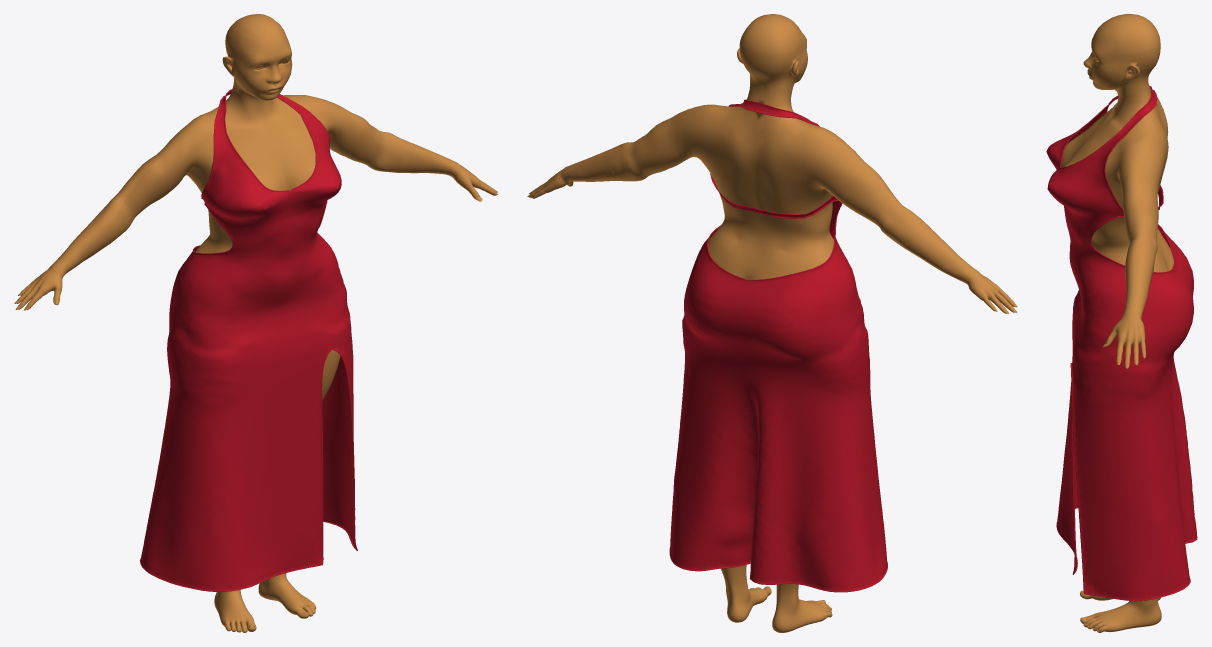
File: dress3.glb
3 views of the same model, side by side, from view 1: azimuth 30°, elevation 25°; view 2: azimuth 150°, elevation 25°; view 3: azimuth 270°, elevation 25° (orthographic).
Visible parts, largest first — view 1: EveningDress, Body; view 2: EveningDress, Body; view 3: EveningDress, Body.
Boxes of the visible parts, bbox=[...] form: EveningDress: bbox=[140, 89, 357, 591]; Body: bbox=[17, 14, 497, 632]; EveningDress: bbox=[669, 99, 887, 592]; Body: bbox=[529, 14, 1014, 632]; EveningDress: bbox=[1046, 86, 1197, 601]; Body: bbox=[1060, 14, 1173, 632].
Size of the model in its own units: 1.58 by 1.85 by 0.4261.
